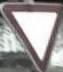Give way: (1, 2, 58, 68)
